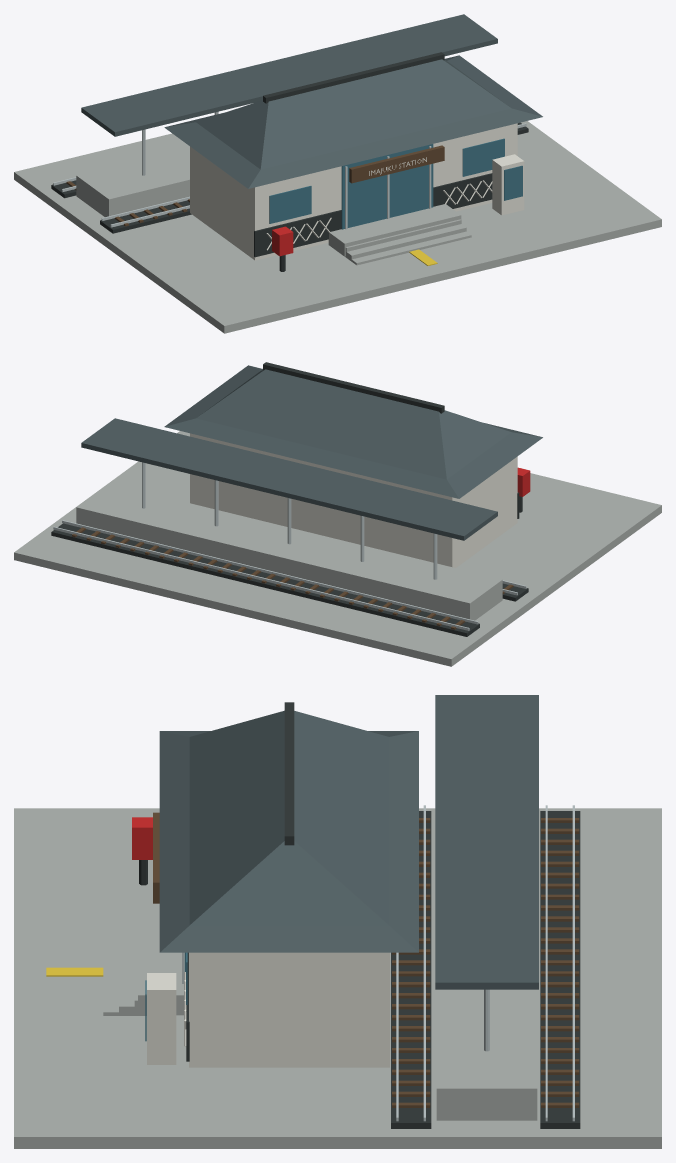
3 views of the same model, one above another, from view 1: azimuth 30°, elevation 25°; view 2: azimuth 150°, elevation 25°; view 3: azimuth 270°, elevation 25° (orthographic). The views are drawn at different scales.
Parts seen in each view (by area): view 1: imajuku-station; view 2: imajuku-station; view 3: imajuku-station.
Boxes of the visible parts, x1=… form: imajuku-station: x1=14, y1=14, x2=661, y2=333; imajuku-station: x1=14, y1=362, x2=661, y2=666; imajuku-station: x1=14, y1=695, x2=661, y2=1148.
Bounding box in the file's own units: 12 × 3.66 × 10.
